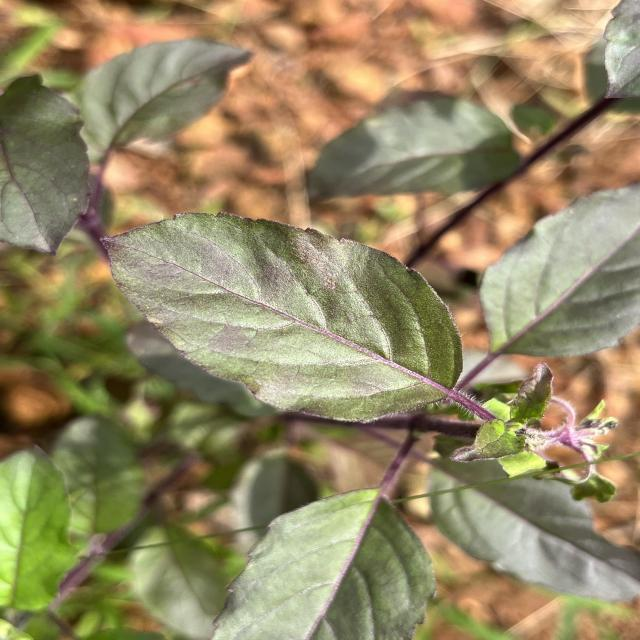Ocimum tenuiflorum: (91, 206, 468, 427)
